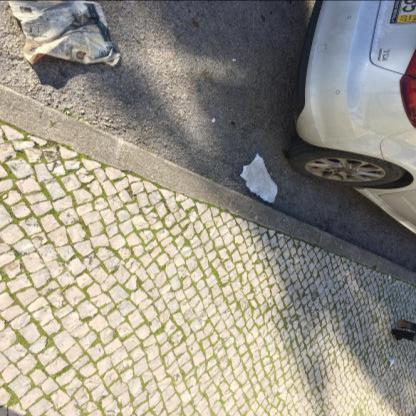Paper: (8, 0, 122, 66)
Styrofoam piece: (241, 153, 278, 203), (212, 117, 216, 122)
Unlabeled litter: (388, 359, 394, 369)
